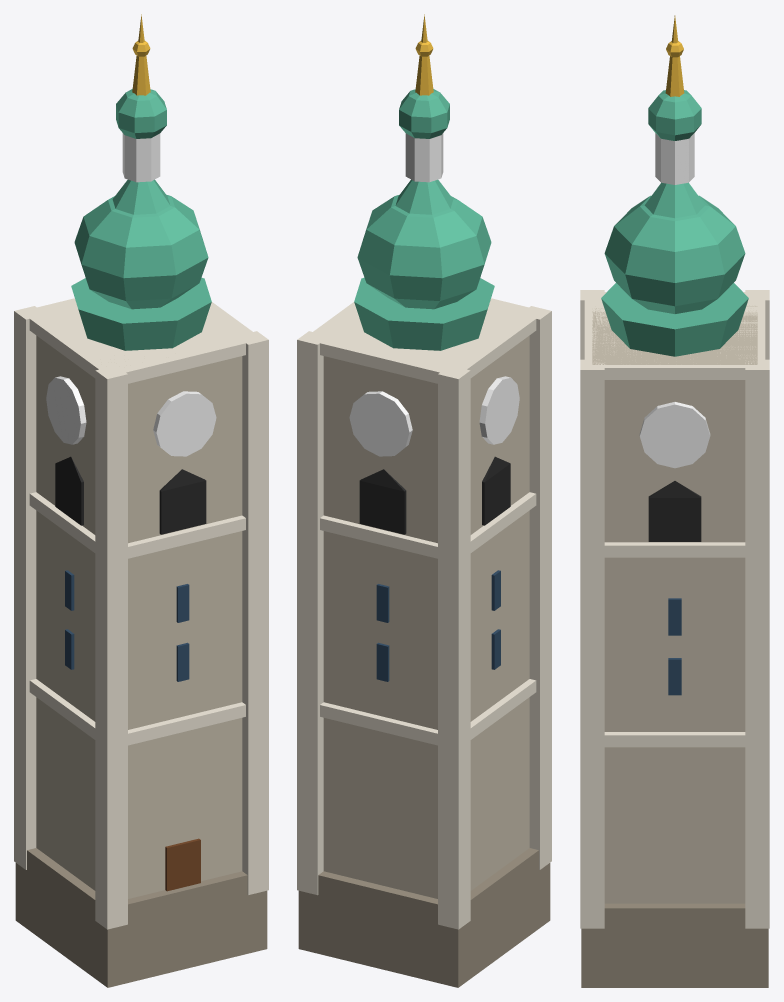
Rendered from citytower.glb.
The picture shows the model from 3 angles, left to right: view 1: azimuth 30°, elevation 25°; view 2: azimuth 150°, elevation 25°; view 3: azimuth 270°, elevation 25°; orthographic projection.
Parts seen in each view (by area): view 1: CityTower; view 2: CityTower; view 3: CityTower.
Boxes of the visible parts, x1=… form: CityTower: x1=14, y1=14, x2=268, y2=987; CityTower: x1=297, y1=14, x2=551, y2=987; CityTower: x1=580, y1=15, x2=769, y2=987.
Bounding box in the file's own units: 8.6 × 46.84 × 8.6.
